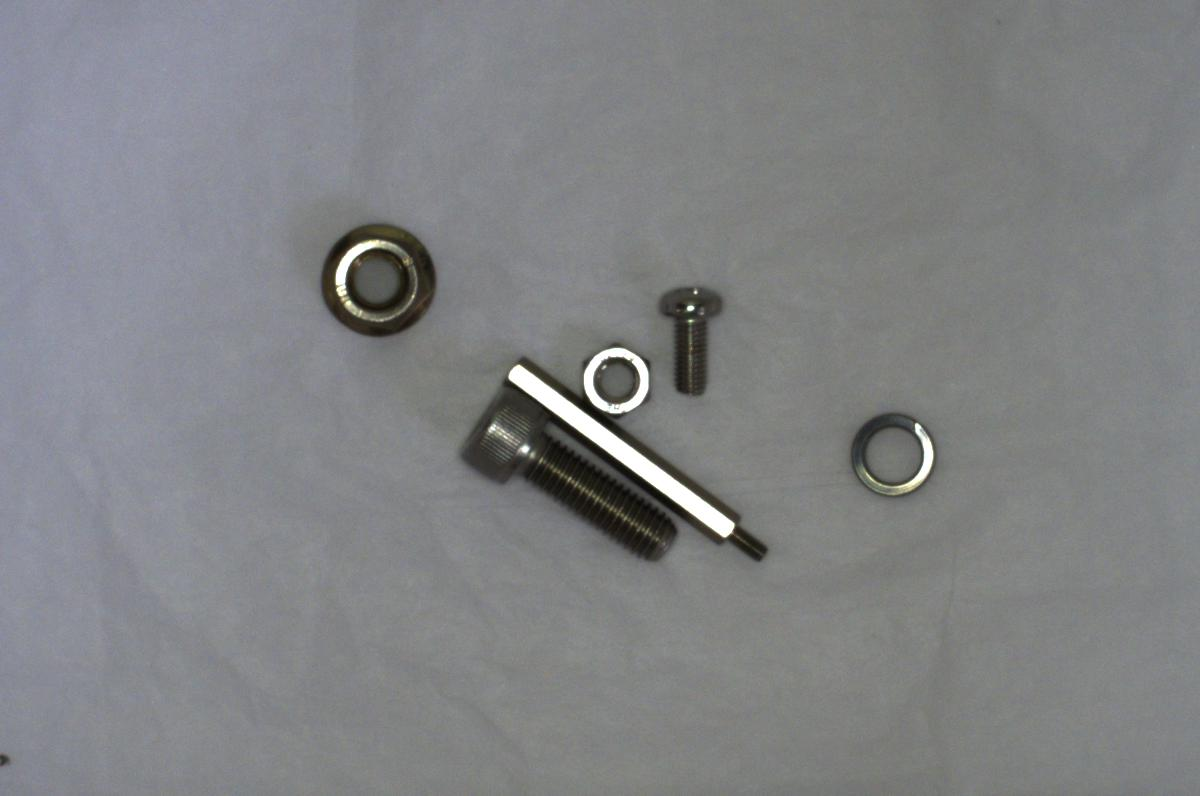Flange nut: (317, 214, 450, 340)
Hexagon nut: (573, 341, 661, 421)
Hexagon screw: (441, 387, 687, 556)
Hexagonal steel column: (502, 353, 777, 561)
Round head screw: (661, 276, 720, 395)
Spring washer: (826, 405, 957, 505)
